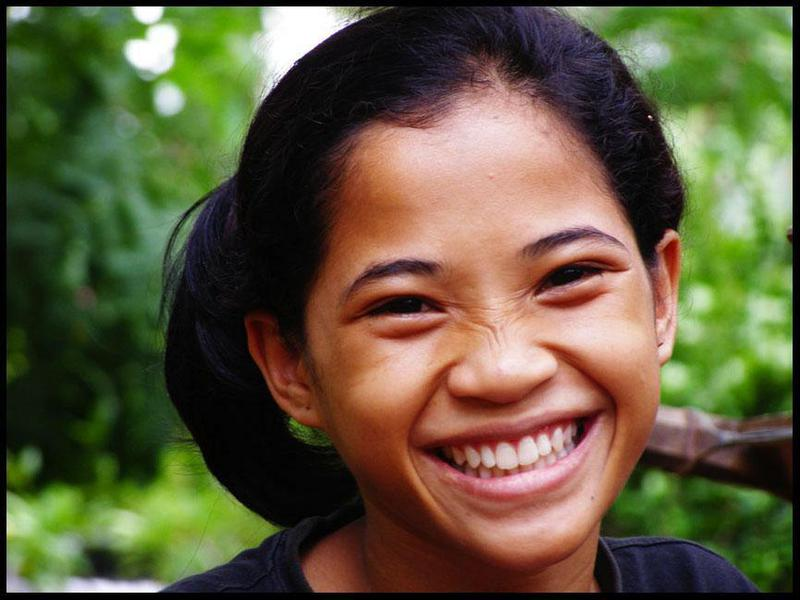person: (152, 20, 767, 600)
